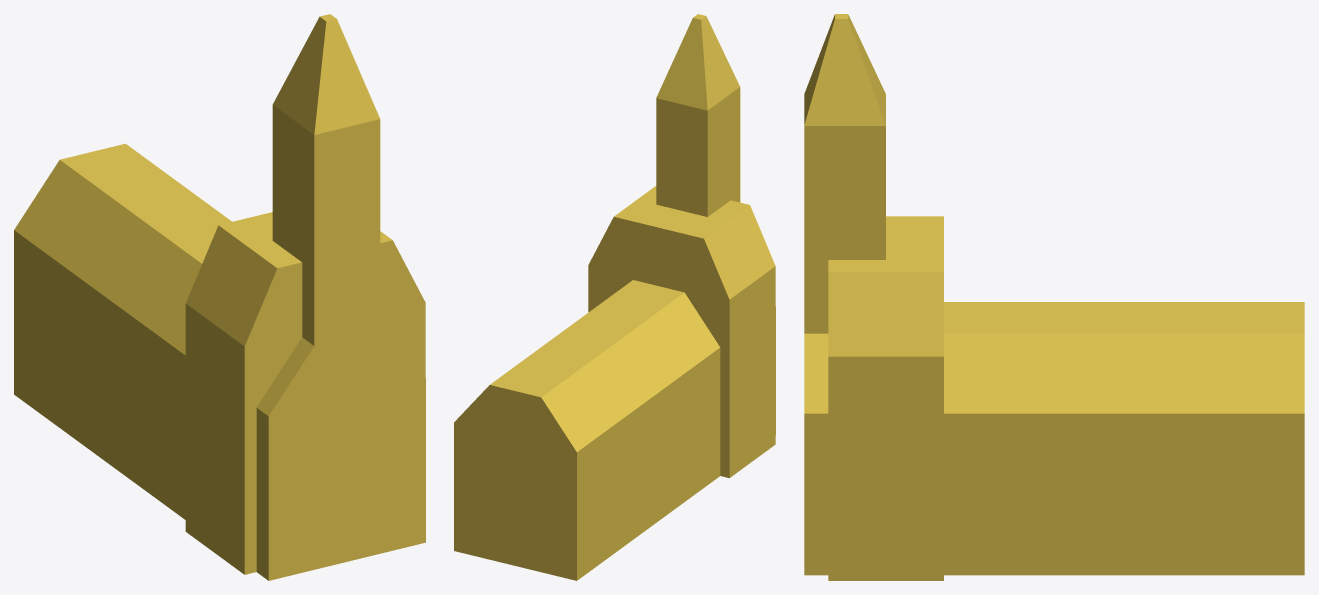
Rendered from minimickey.glb.
3 renders of one model, left to right at view 1: azimuth 30°, elevation 25°; view 2: azimuth 150°, elevation 25°; view 3: azimuth 270°, elevation 25°, orthographic. The views are drawn at different scales.
Parts seen in each view (by area): view 1: church; view 2: church; view 3: church.
Boxes of the visible parts, x1,y1,x2,y2 form: church: [14, 14, 425, 580]; church: [454, 14, 775, 580]; church: [804, 14, 1304, 580].
Bounding box in the file's own units: 2.3 × 6.6 × 5.61.
